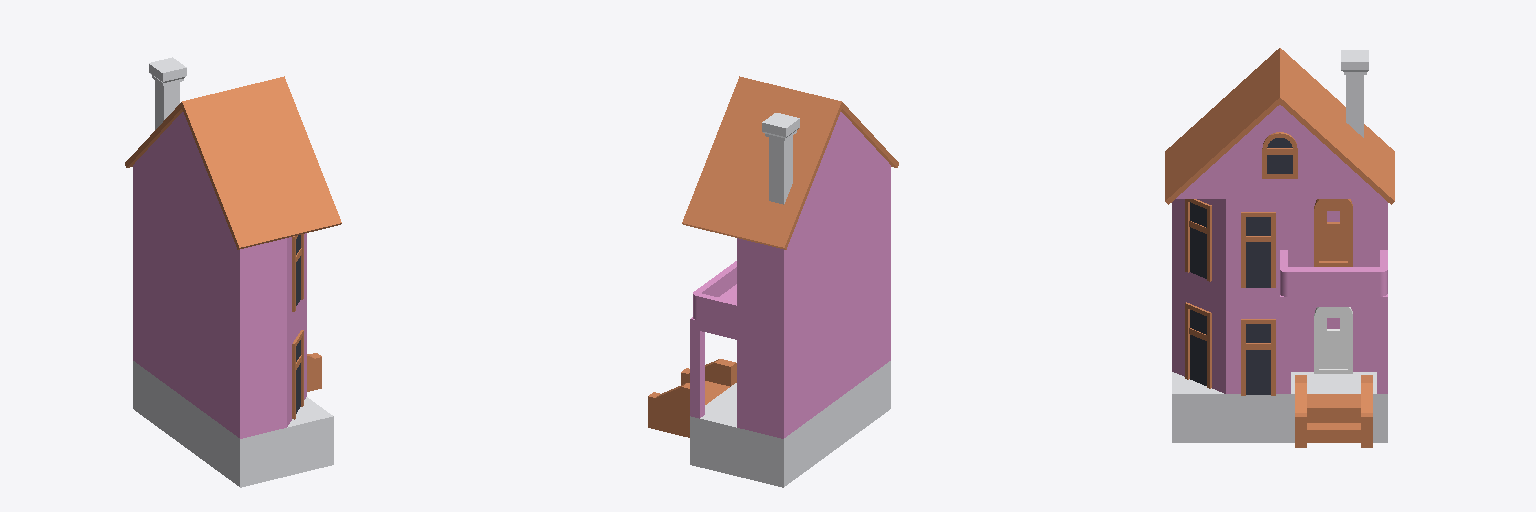
Rendered from Victorian2.obj.
The picture shows the model from 3 angles: view 1: azimuth 30°, elevation 25°; view 2: azimuth 150°, elevation 25°; view 3: azimuth 270°, elevation 25°; orthographic projection.
Bounding box in the file's own units: 1.59 × 3.6 × 2.14.